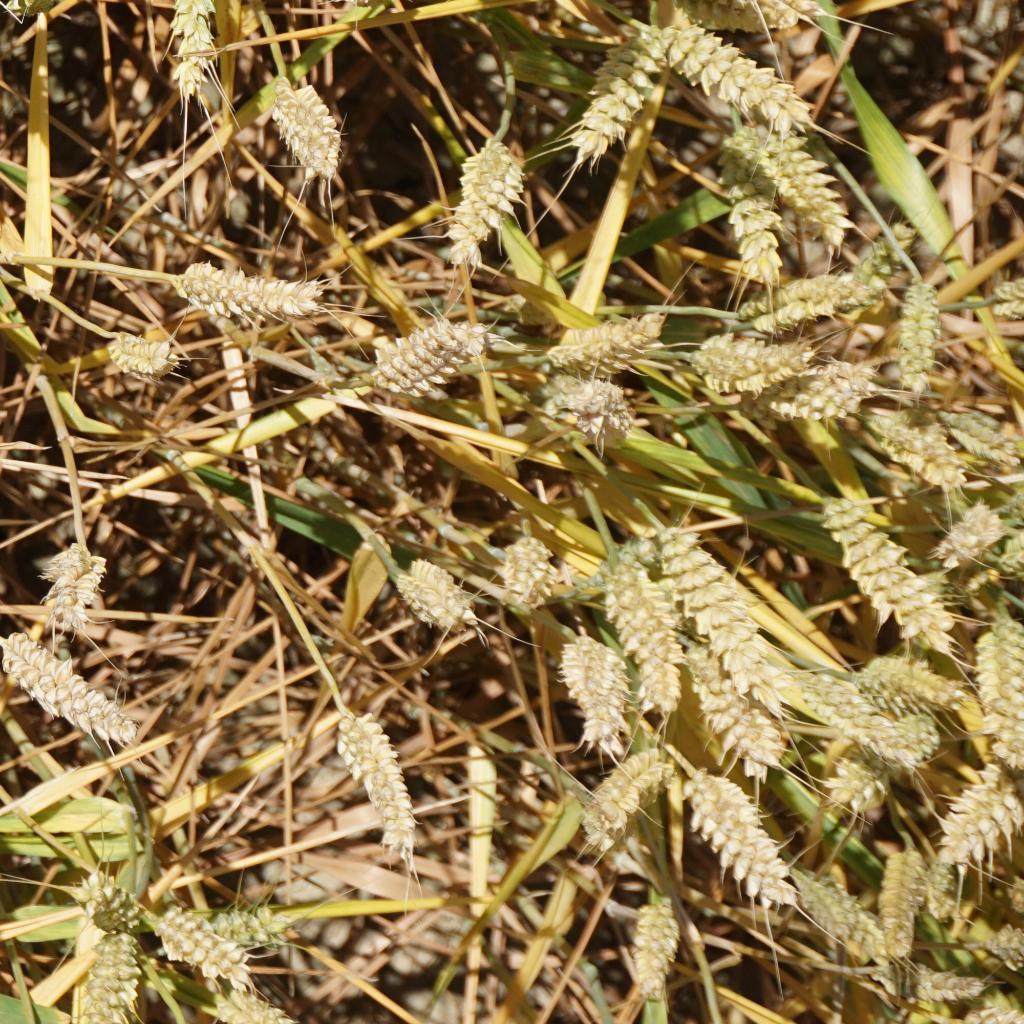0-0: (559, 9, 692, 186), (814, 489, 951, 640), (655, 19, 812, 133), (0, 614, 135, 742), (716, 119, 860, 237), (329, 700, 418, 867), (684, 773, 789, 914), (664, 527, 764, 674), (682, 632, 777, 768), (444, 131, 530, 280), (572, 517, 722, 602), (173, 243, 334, 321), (600, 556, 684, 699), (804, 662, 912, 763), (544, 612, 621, 740), (267, 68, 345, 192), (938, 759, 1022, 870), (758, 354, 885, 427), (364, 316, 480, 395), (716, 166, 790, 283), (863, 644, 968, 726), (851, 947, 976, 1012), (544, 368, 647, 446), (841, 214, 924, 310), (587, 733, 662, 837), (748, 260, 848, 336), (843, 719, 934, 802), (140, 902, 237, 977), (688, 332, 803, 395), (210, 884, 298, 963), (976, 617, 1024, 759), (543, 307, 665, 362), (621, 892, 684, 997), (792, 861, 868, 945), (35, 541, 108, 628), (880, 828, 925, 969), (874, 412, 963, 482), (495, 524, 561, 612), (935, 489, 1005, 571), (211, 969, 313, 1024), (944, 398, 1020, 469), (75, 866, 146, 941), (80, 924, 133, 1024), (903, 283, 948, 400), (96, 315, 176, 376), (388, 554, 455, 623), (659, 0, 812, 29), (166, 0, 216, 85), (917, 850, 969, 921), (979, 907, 1024, 971), (979, 275, 1024, 316), (5, 0, 54, 15)
